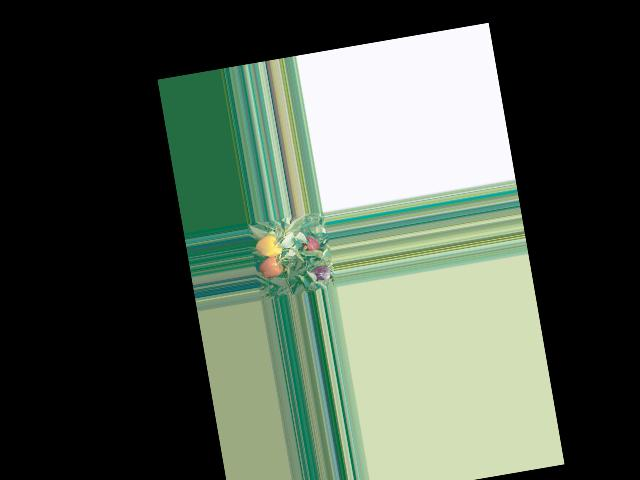bell_pepper: (255, 233, 284, 264)
